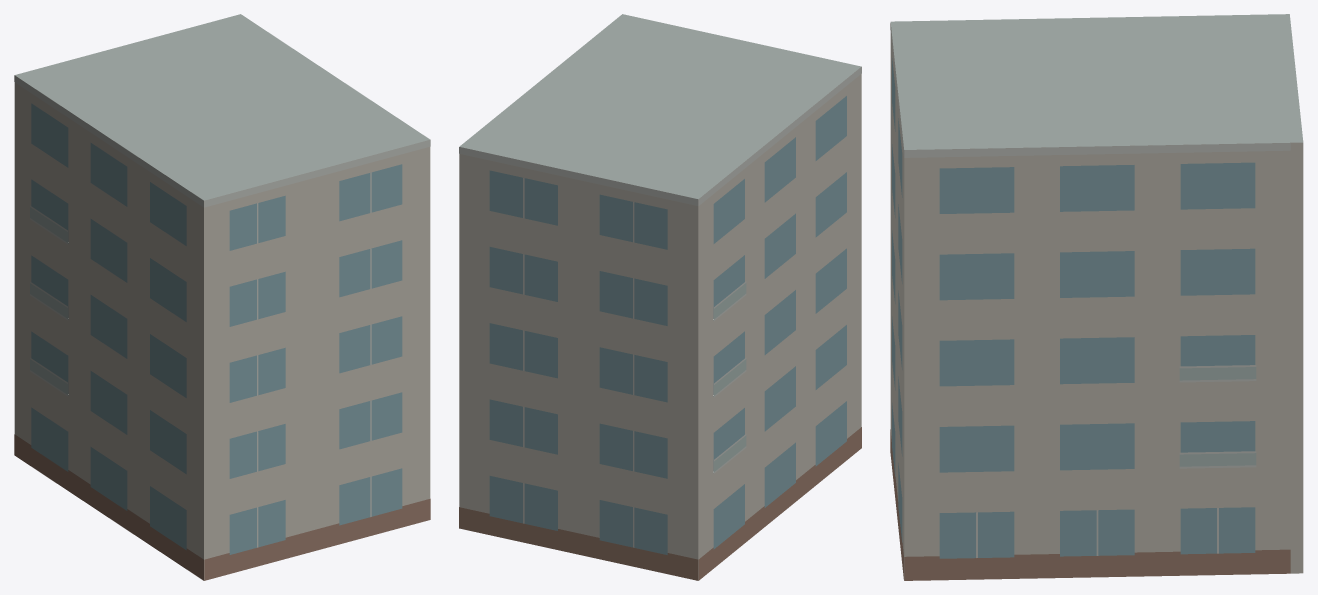
The model's file is survey-upis-32528211.glb.
3 renders of one model, left to right at view 1: azimuth 30°, elevation 25°; view 2: azimuth 150°, elevation 25°; view 3: azimuth 270°, elevation 25°, orthographic. The views are drawn at different scales.
Visible parts, largest first — view 1: survey-upis-32528211.tmp; view 2: survey-upis-32528211.tmp; view 3: survey-upis-32528211.tmp.
Boxes of the visible parts, <box> form: survey-upis-32528211.tmp: <box>14,14,430,580</box>; survey-upis-32528211.tmp: <box>459,14,861,580</box>; survey-upis-32528211.tmp: <box>890,14,1303,580</box>.
Bounding box in the file's own units: 9.01 × 13.3 × 11.56.
